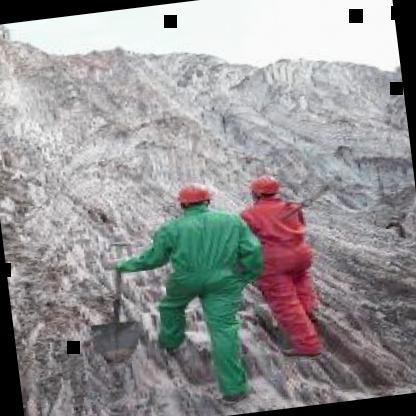helmet: (170, 177, 218, 214), (247, 170, 287, 206)
